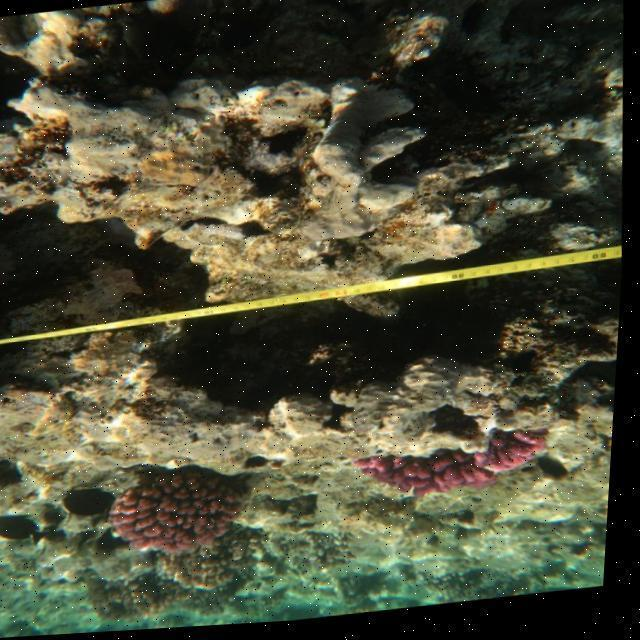Healthy Coral: (101, 457, 259, 568), (348, 436, 554, 518)
